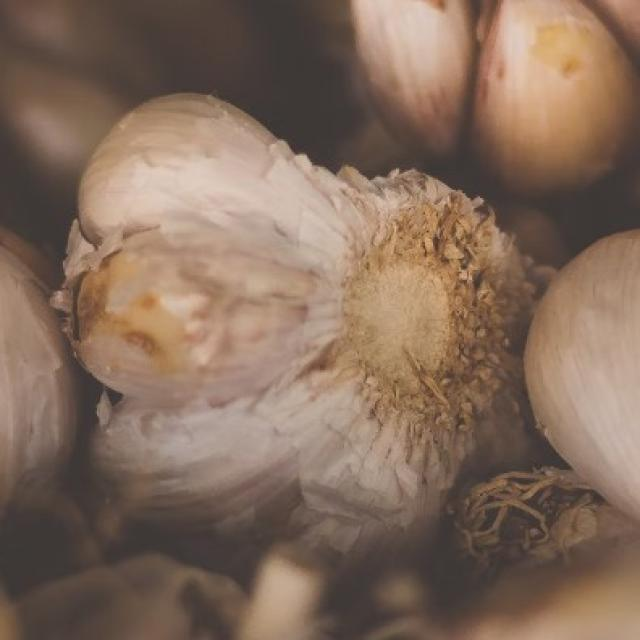garlic: (0, 1, 640, 527)
